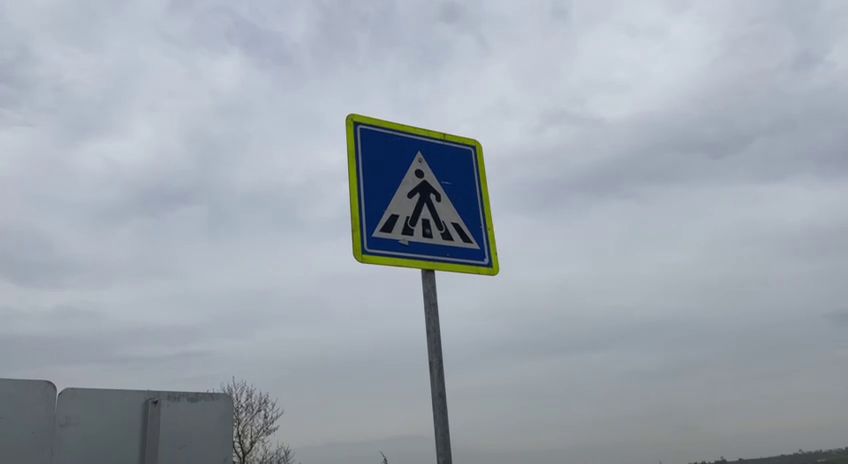pedestrianCrossing: (342, 111, 502, 280)
